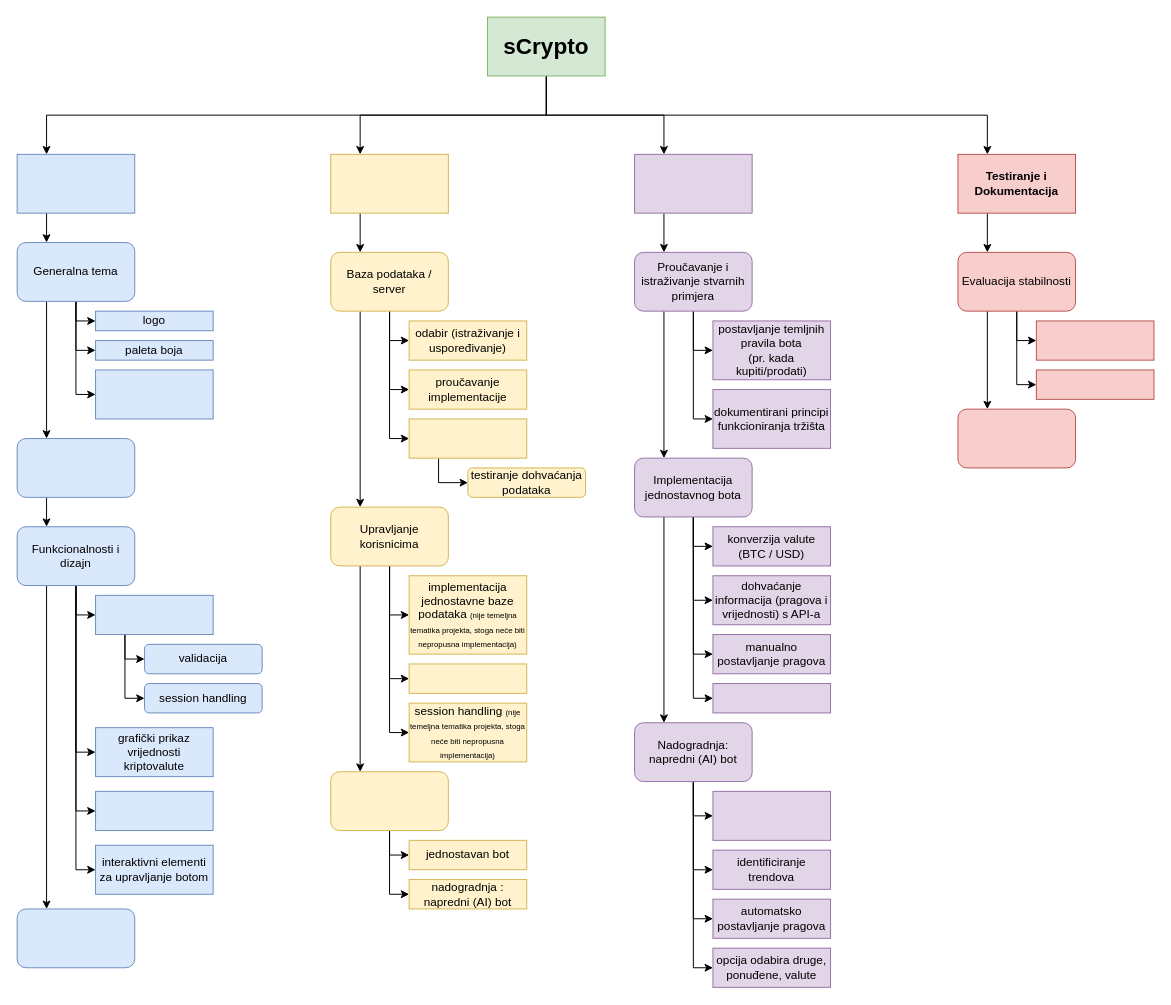
Some shapes in this 1171 by 1005 pixel diagram are drawn without their labels. Each missing label, with the centre of its shape:
"Polishing" (finaliziranje): pixel 75 938
ako potrebno : baza podataka (API log files): pixel 771 815
API: pixel 467 438
dizajn prijave / registracije: pixel 154 614
Finaliziranje dokumentacije: pixel 1016 438
Grafičko Sučelje: pixel 75 183
Implementacija algoritma: pixel 389 801
interakcija s API-em: pixel 771 698
Otpornost na stres: pixel 1094 340
Povezivanje s botom: pixel 75 467
prijava / registracija: pixel 467 678
Prijava greški: pixel 1094 384
prikaz log datoteka korisnika: pixel 154 810
Razvoj Algoritma: pixel 693 183
Razvoj Programske Podrške: pixel 389 183
standardi dizajna (izgled ponavljajućih komponenti): pixel 154 394
